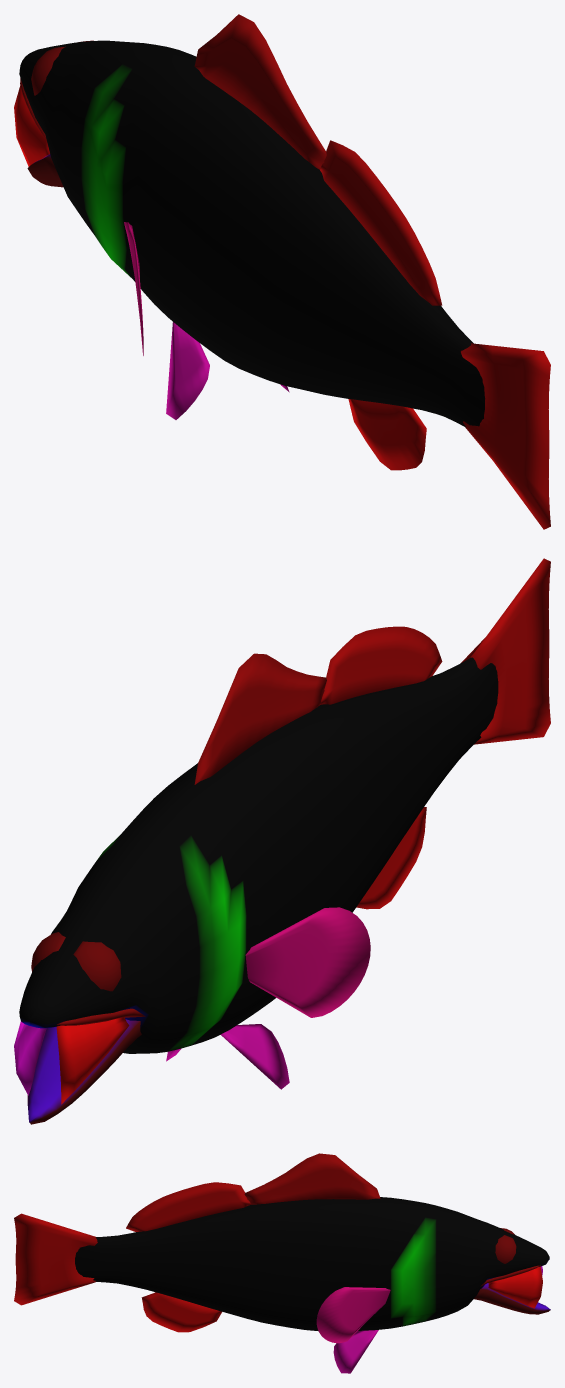
The model's file is kelp_bass_lo.glb.
3 views of the same model, one above another, from view 1: azimuth 30°, elevation 25°; view 2: azimuth 150°, elevation 25°; view 3: azimuth 270°, elevation 25° (orthographic). The views are drawn at different scales.
Parts seen in each view (by area): view 1: kelp_bass_lo; view 2: kelp_bass_lo; view 3: kelp_bass_lo.
Boxes of the visible parts, <box> form: kelp_bass_lo: <box>14,14,550,529</box>; kelp_bass_lo: <box>14,558,550,1124</box>; kelp_bass_lo: <box>14,1153,550,1373</box>.
Size of the model in its own units: 0.1245 by 0.2087 by 0.4939.
